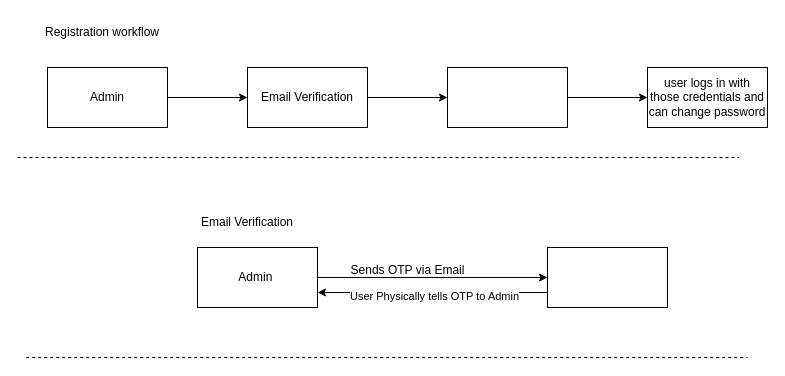
Some shapes in this 785 by 376 pixel diagram are drawn without their labels. The centre of each missing label's shape, as x and y in pixels:
"admin sends Credential to user via email" belongs at [507,97].
"User" belongs at [607,277].
